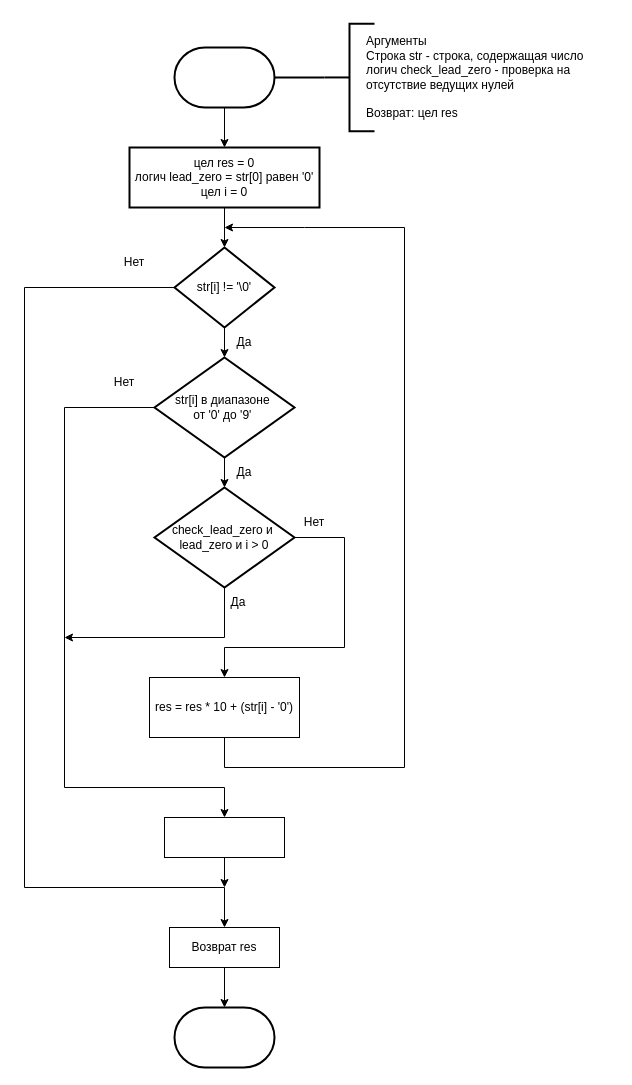
This 632x1085 diagram has some shape labels left out. Here are the shapes that lost their labels. From the top down, the box of each, then its label:
(173, 46, 275, 108): Начало strtoi
(164, 816, 284, 858): res = -1
(173, 1006, 275, 1068): Конец strtoi
